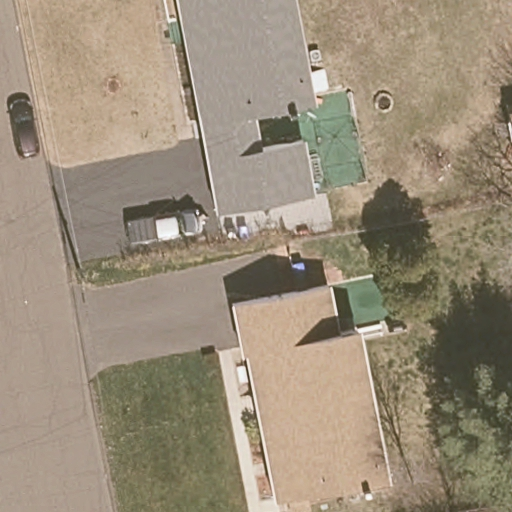DT: (71, 247, 91, 304)
